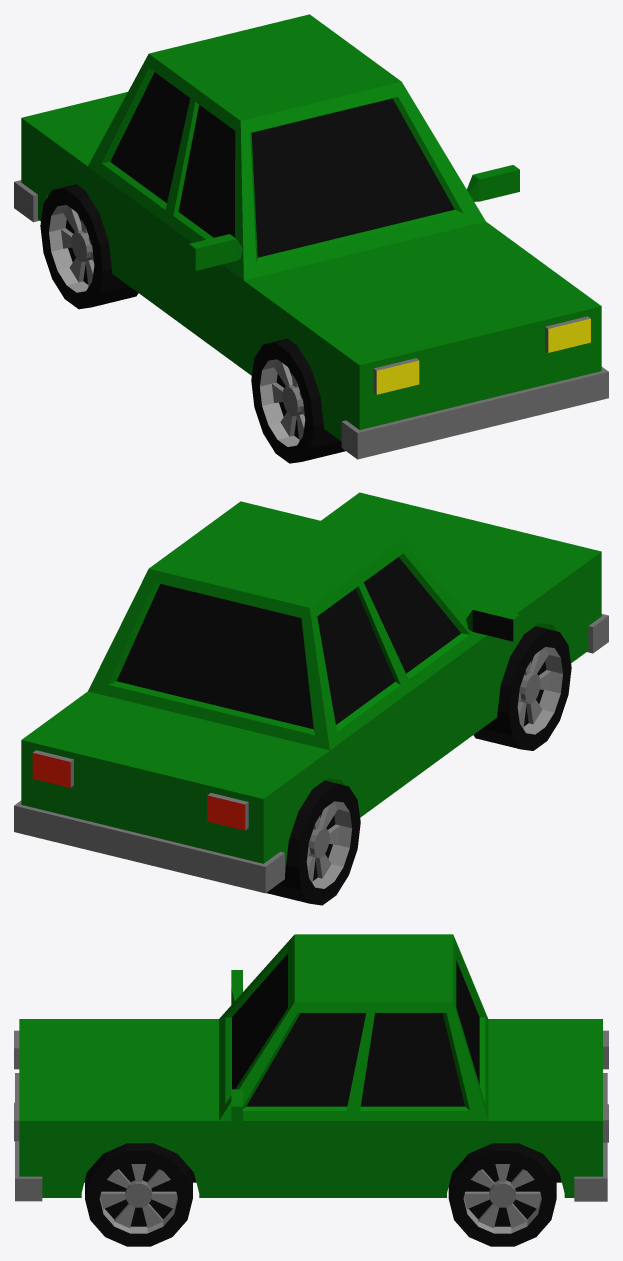
File: cargreen.fbx
3 views of the same model, one above another, from view 1: azimuth 30°, elevation 25°; view 2: azimuth 150°, elevation 25°; view 3: azimuth 270°, elevation 25° (orthographic). The views are drawn at different scales.
Parts seen in each view (by area): view 1: Cube, Cube.004, Cube.005; view 2: Cube, Cube.004, Cube.005; view 3: Cube, Cube.002, Cube.003.
Part boxes in pixels (x1,y1,x2,y2): Cube: (14, 14, 608, 459); Cube.004: (251, 338, 345, 463); Cube.005: (40, 184, 138, 309); Cube: (14, 492, 608, 893); Cube.004: (473, 626, 571, 750); Cube.005: (266, 780, 360, 905); Cube: (14, 934, 608, 1201); Cube.002: (85, 1143, 192, 1246); Cube.003: (448, 1143, 556, 1246).
Size of the model in its own units: 329 by 252 by 606.
1 material, 1 textured.
